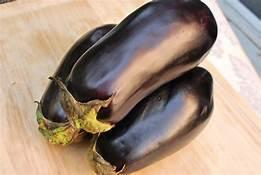eggplant: (53, 0, 216, 133)
